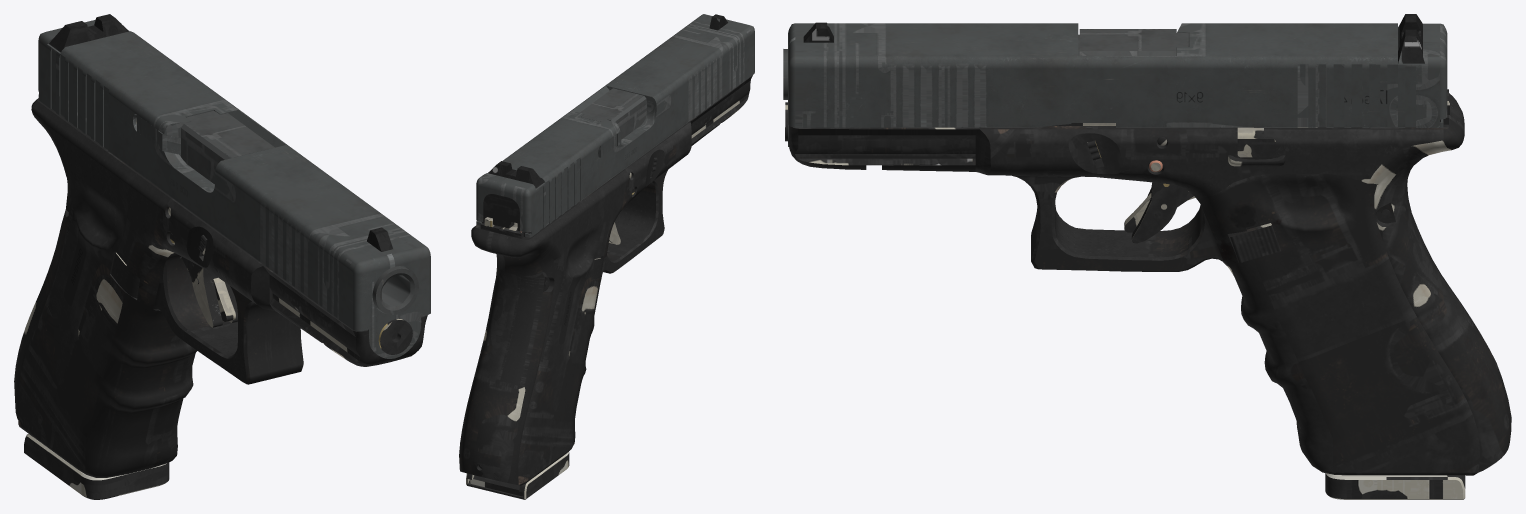
File: glock-world.glb
The picture shows the model from 3 angles, left to right: view 1: azimuth 30°, elevation 25°; view 2: azimuth 150°, elevation 25°; view 3: azimuth 270°, elevation 25°; orthographic projection. The views are drawn at different scales.
Visible parts, largest first — view 1: g17_base_00_Frame_2k_0, g17_slide_07_Slide_2k_0, g17_base_01_Barrel_1k_0, g17_magazine_03_Magazine_2k_0, g17_trigger_02_Base_2k_0, g17_slide_04_Sights_512_0, g17_base_02_Base_2k_0; view 2: g17_base_00_Frame_2k_0, g17_slide_07_Slide_2k_0, g17_base_01_Barrel_1k_0, g17_magazine_03_Magazine_2k_0, g17_slide_06_Slide_Cover_Plate_512_0, g17_slide_04_Sights_512_0; view 3: g17_base_00_Frame_2k_0, g17_slide_07_Slide_2k_0, g17_magazine_03_Magazine_2k_0, g17_base_01_Barrel_1k_0, g17_trigger_02_Base_2k_0, g17_slide_04_Sights_512_0, g17_slidestopper_02_Base_2k_0.
Part boxes in pixels (x1=…): g17_base_00_Frame_2k_0: x1=14, y1=98, x2=427, y2=477; g17_slide_07_Slide_2k_0: x1=38, y1=20, x2=430, y2=358; g17_base_01_Barrel_1k_0: x1=181, y1=111, x2=418, y2=314; g17_magazine_03_Magazine_2k_0: x1=24, y1=434, x2=169, y2=499; g17_trigger_02_Base_2k_0: x1=181, y1=256, x2=237, y2=327; g17_slide_04_Sights_512_0: x1=49, y1=14, x2=392, y2=251; g17_base_02_Base_2k_0: x1=68, y1=201, x2=412, y2=354; g17_base_00_Frame_2k_0: x1=459, y1=75, x2=752, y2=485; g17_slide_07_Slide_2k_0: x1=476, y1=14, x2=754, y2=237; g17_base_01_Barrel_1k_0: x1=580, y1=88, x2=646, y2=139; g17_magazine_03_Magazine_2k_0: x1=466, y1=452, x2=569, y2=499; g17_slide_06_Slide_Cover_Plate_512_0: x1=483, y1=194, x2=520, y2=230; g17_slide_04_Sights_512_0: x1=488, y1=14, x2=727, y2=188; g17_base_00_Frame_2k_0: x1=789, y1=89, x2=1511, y2=475; g17_slide_07_Slide_2k_0: x1=788, y1=23, x2=1447, y2=146; g17_magazine_03_Magazine_2k_0: x1=1218, y1=127, x2=1465, y2=499; g17_base_01_Barrel_1k_0: x1=783, y1=29, x2=1188, y2=99; g17_trigger_02_Base_2k_0: x1=1124, y1=182, x2=1195, y2=243; g17_slide_04_Sights_512_0: x1=803, y1=14, x2=1424, y2=63; g17_slidestopper_02_Base_2k_0: x1=1237, y1=127, x2=1275, y2=157.
Size of the model in its own units: 0.0334 by 0.1396 by 0.2031.
Materials: 8 (8 with a texture image).
